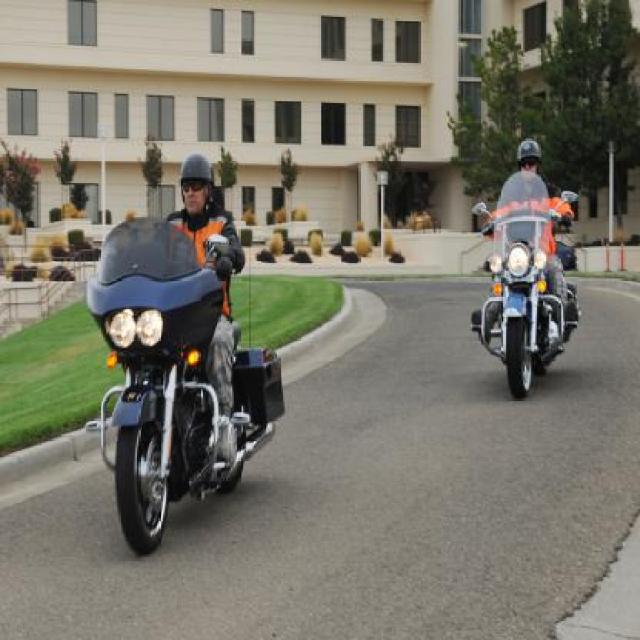Person: (90, 148, 248, 454), (468, 138, 586, 337)
